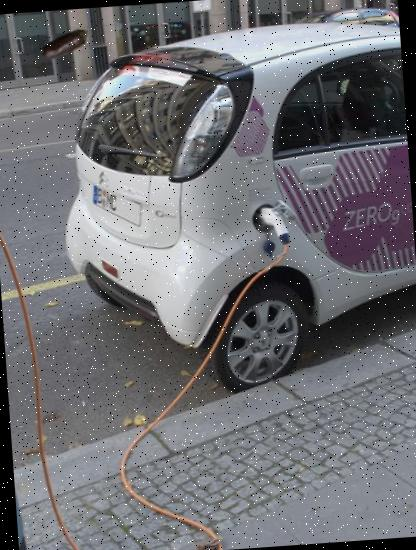Eggplant: (36, 14, 94, 72)
